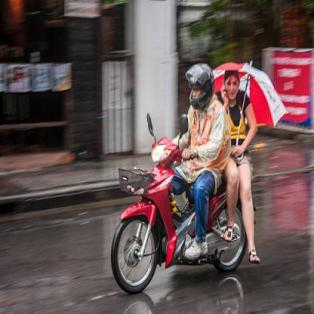Motocicleta: (109, 117, 255, 293)
